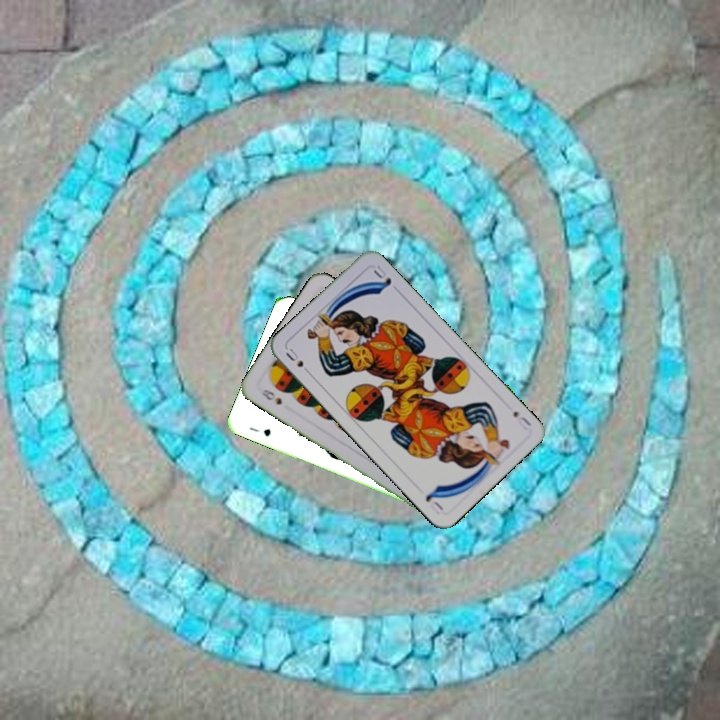GU: (245, 423, 273, 439)
S8: (256, 384, 285, 407)
SU: (281, 344, 314, 378), (509, 407, 534, 432)
